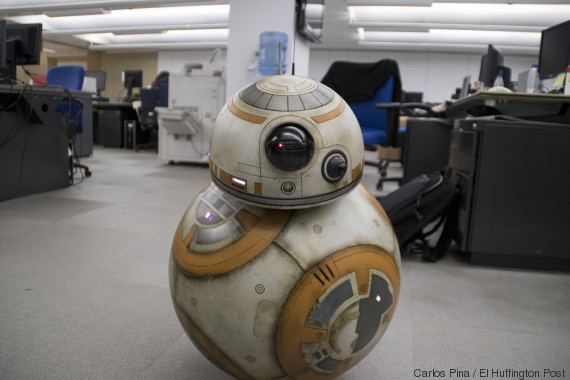bb8: (168, 74, 402, 380)
